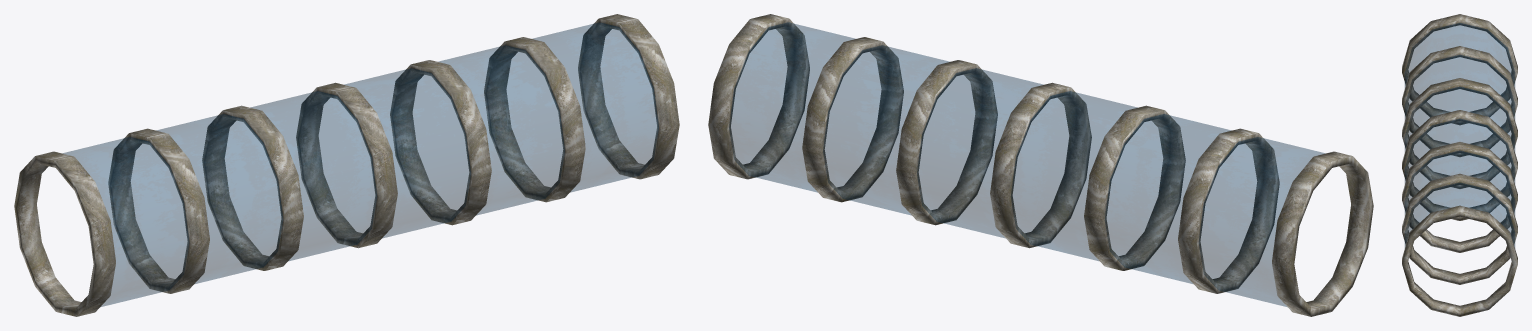
3 renders of one model, left to right at view 1: azimuth 30°, elevation 25°; view 2: azimuth 150°, elevation 25°; view 3: azimuth 270°, elevation 25°, orthographic. The views are drawn at different scales.
Visible parts, largest first — view 1: glass.png__, basic-wall.jpg__; view 2: glass.png__, basic-wall.jpg__; view 3: basic-wall.jpg__, glass.png__.
Boxes of the visible parts, box(x1,y1,x2,y2) form: glass.png__: box(63, 22, 658, 306); basic-wall.jpg__: box(14, 14, 679, 316); glass.png__: box(729, 22, 1324, 306); basic-wall.jpg__: box(708, 14, 1373, 316); basic-wall.jpg__: box(1402, 14, 1517, 316); glass.png__: box(1405, 23, 1514, 246).
Size of the model in its own units: 62 by 15.33 by 15.33.
Materials: 2 (2 with a texture image).
